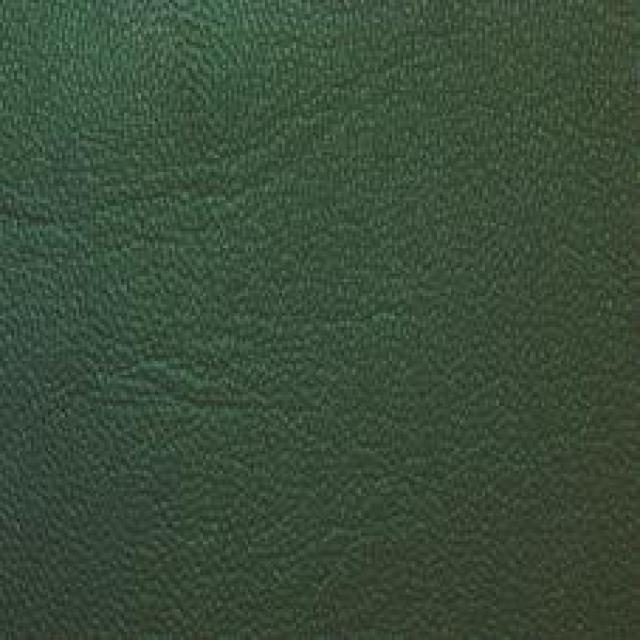Growth Marks: (32, 152, 308, 252), (104, 350, 338, 453)
